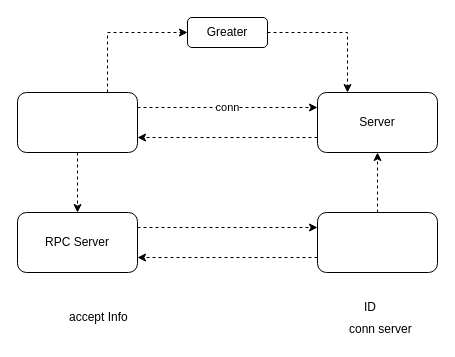
The diagram is 455 pixels wide and 357 high, and some of its shapes have lost their labels. The centre of each missing label's shape, as x and y in pixels:
Client: (x=77, y=122)
RPC Client: (x=377, y=242)
